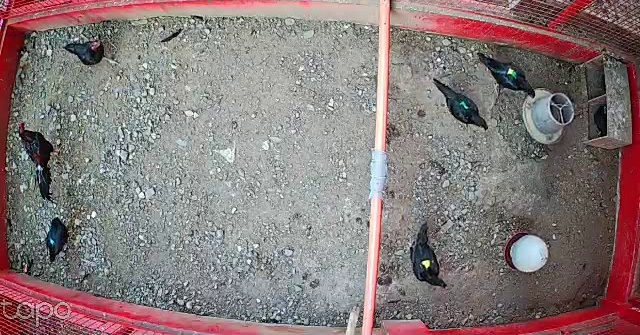Chicken: (432, 73, 491, 132), (408, 220, 447, 291), (62, 31, 121, 71), (45, 216, 71, 266)
Rooster: (15, 118, 60, 201)
Saddle_Color_Blue: (50, 238, 55, 244)
Saddle_Color_Yellow: (418, 259, 432, 273)
Saddle_Color_YellowGreen: (507, 69, 517, 78)
